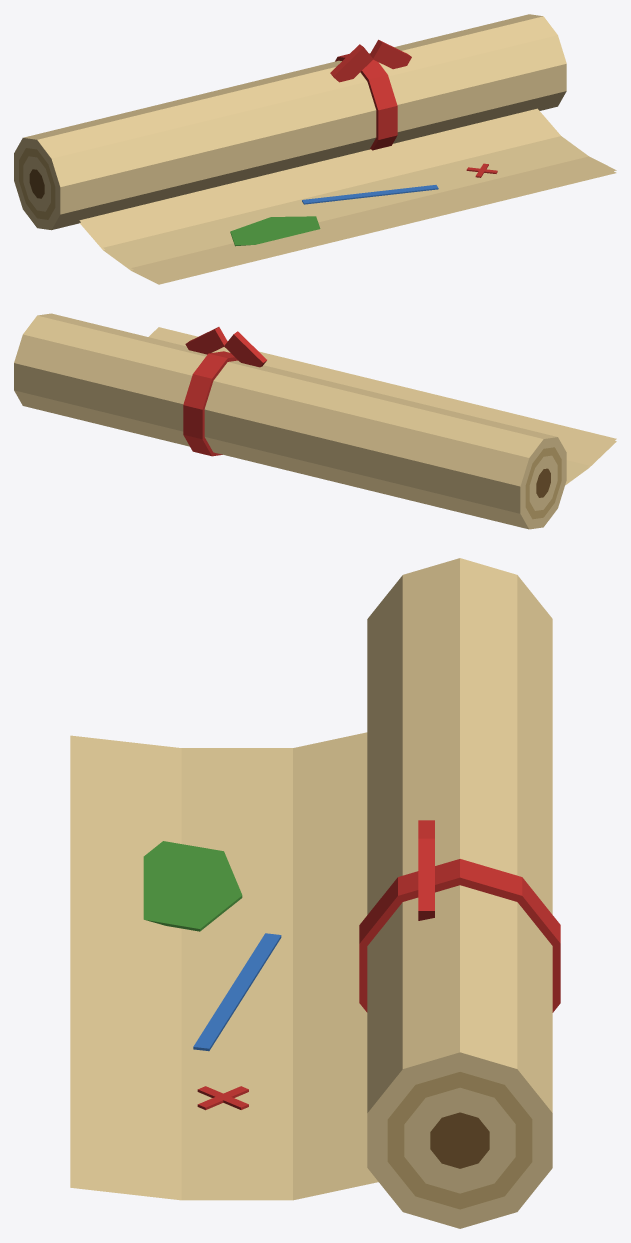
File: Prop_RolledMap.fbx
3 renders of one model, top to bottom at view 1: azimuth 30°, elevation 25°; view 2: azimuth 150°, elevation 25°; view 3: azimuth 270°, elevation 25°, orthographic. The views are drawn at different scales.
Parts seen in each view (by area): view 1: Prop_RolledMap; view 2: Prop_RolledMap; view 3: Prop_RolledMap.
Boxes of the visible parts, bbox=[...] form: Prop_RolledMap: bbox=[14, 14, 616, 284]; Prop_RolledMap: bbox=[14, 313, 616, 529]; Prop_RolledMap: bbox=[70, 558, 560, 1228].
Bounding box in the file's own units: 0.42 × 0.0913 × 0.1761.
